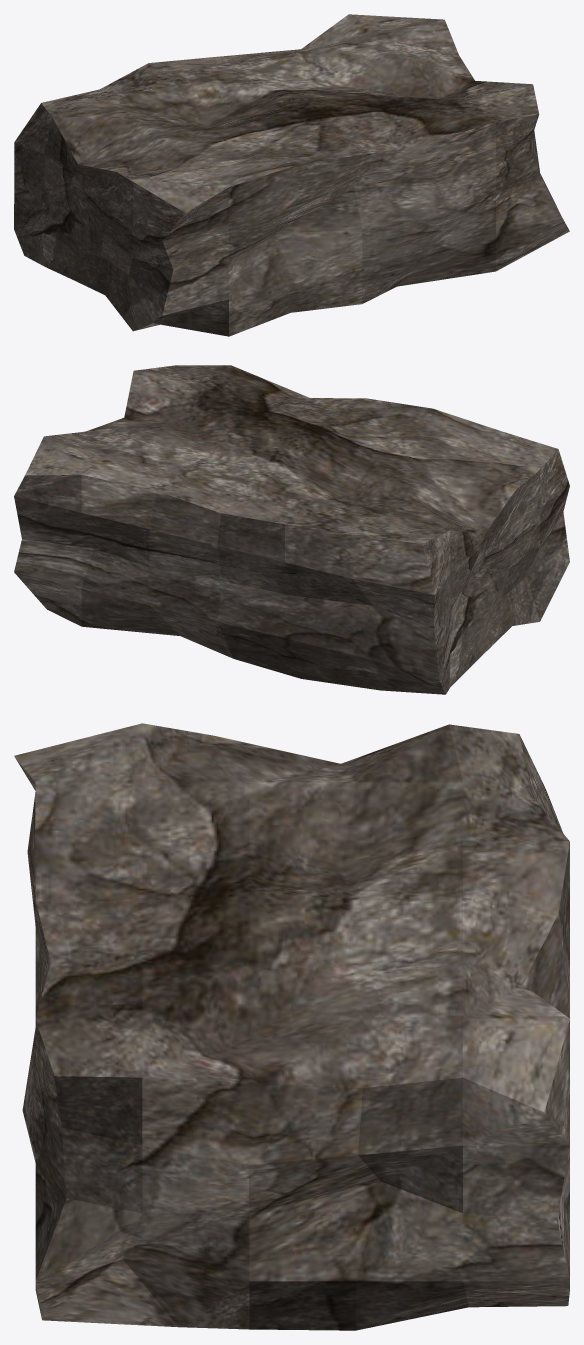
Rendered from SmallRock2.fbx.
3 renders of one model, top to bottom at view 1: azimuth 30°, elevation 25°; view 2: azimuth 150°, elevation 25°; view 3: azimuth 270°, elevation 25°, orthographic. The views are drawn at different scales.
Visible parts, largest first — view 1: Square Rock1; view 2: Square Rock1; view 3: Square Rock1.
Part boxes in pixels (box(x1,y1,x2,y2)): Square Rock1: box(14, 14, 569, 336); Square Rock1: box(14, 365, 569, 694); Square Rock1: box(14, 723, 569, 1330).
Size of the model in its own units: 104 by 38.42 by 65.92.
1 material, 1 textured.
